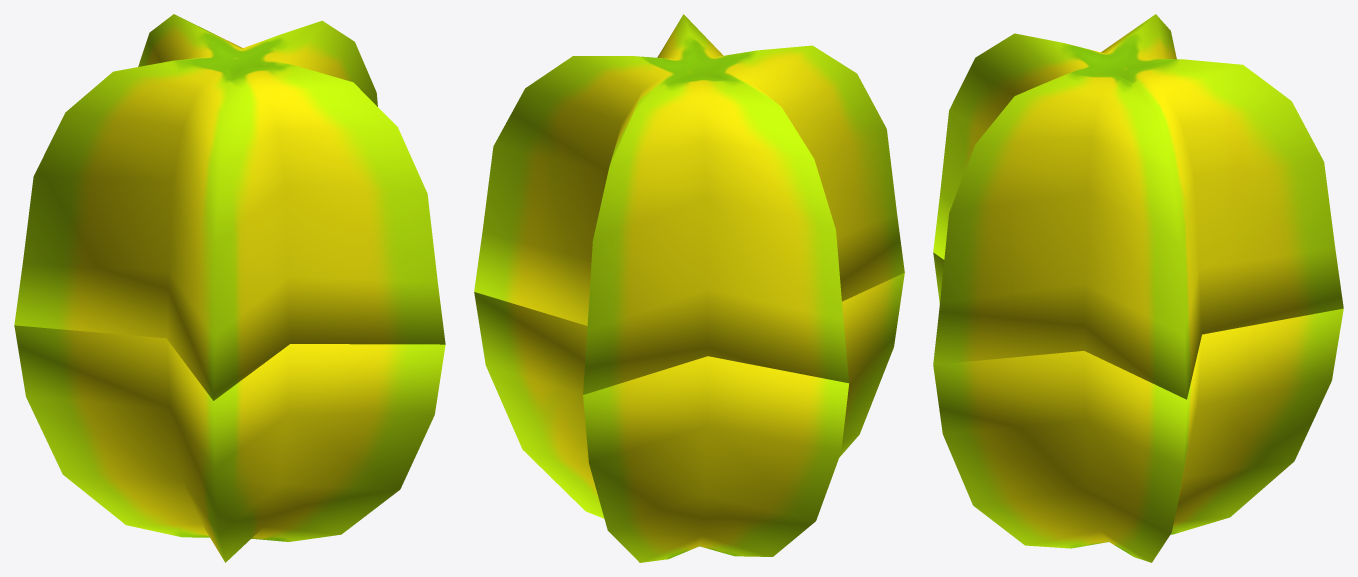
File: Carambola.fbx
The picture shows the model from 3 angles, left to right: view 1: azimuth 30°, elevation 25°; view 2: azimuth 150°, elevation 25°; view 3: azimuth 270°, elevation 25°; orthographic projection.
Parts seen in each view (by area): view 1: CarambolaTop, CarambolaBot; view 2: CarambolaTop, CarambolaBot; view 3: CarambolaTop, CarambolaBot.
Part boxes in pixels (left/top/right/bottom): CarambolaTop: left=14, top=14, right=445, bottom=400; CarambolaBot: left=14, top=325, right=445, bottom=562; CarambolaTop: left=474, top=14, right=904, bottom=394; CarambolaBot: left=474, top=273, right=904, bottom=562; CarambolaTop: left=933, top=14, right=1343, bottom=399; CarambolaBot: left=933, top=252, right=1343, bottom=562.
Bounding box in the file's own units: 190 × 232 × 181.
